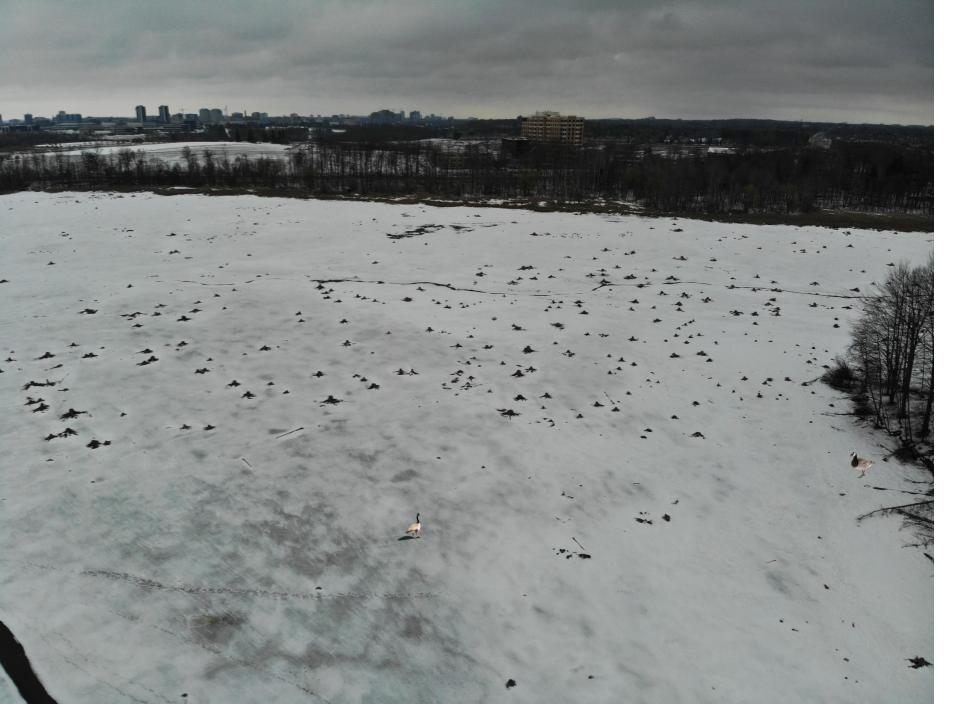goose: (845, 448, 875, 477), (401, 510, 426, 544)
